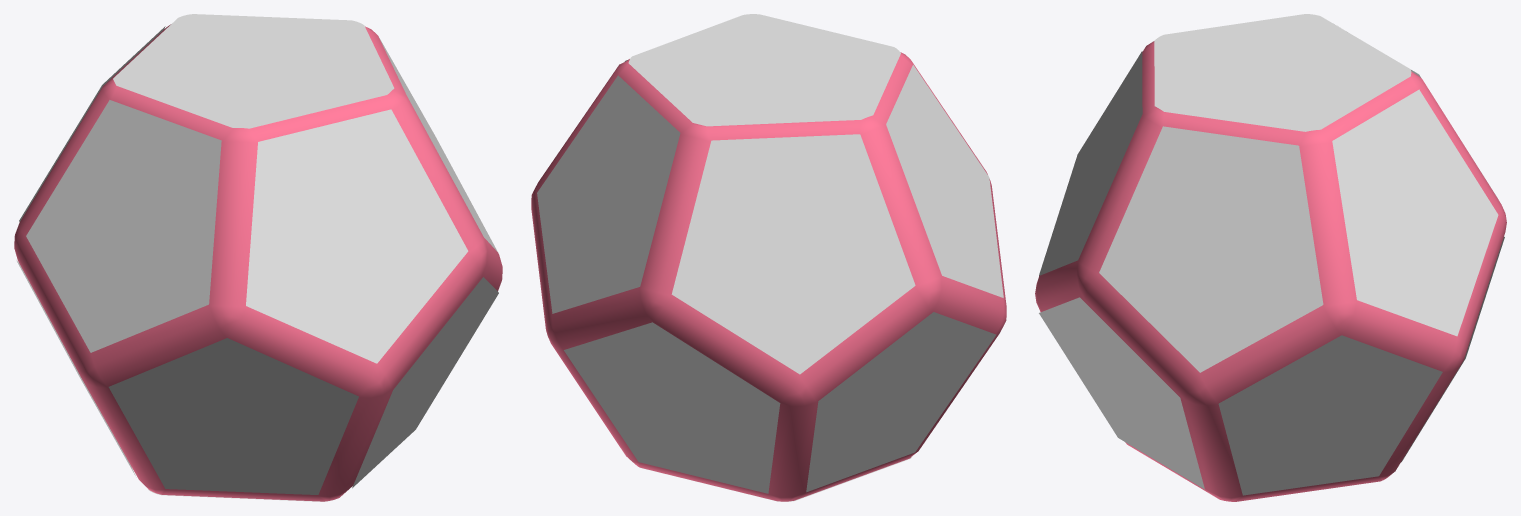
File: dice12_flip.fbx
3 views of the same model, side by side, from view 1: azimuth 30°, elevation 25°; view 2: azimuth 150°, elevation 25°; view 3: azimuth 270°, elevation 25° (orthographic). The views are drawn at different scales.
Visible parts, largest first — view 1: Cylinder.002; view 2: Cylinder.002; view 3: Cylinder.002.
Part boxes in pixels (left/top/right/bottom): Cylinder.002: left=14, top=14, right=502, bottom=501; Cylinder.002: left=531, top=14, right=1006, bottom=501; Cylinder.002: left=1035, top=14, right=1506, bottom=501.
Bounding box in the file's own units: 239 × 208 × 241.
